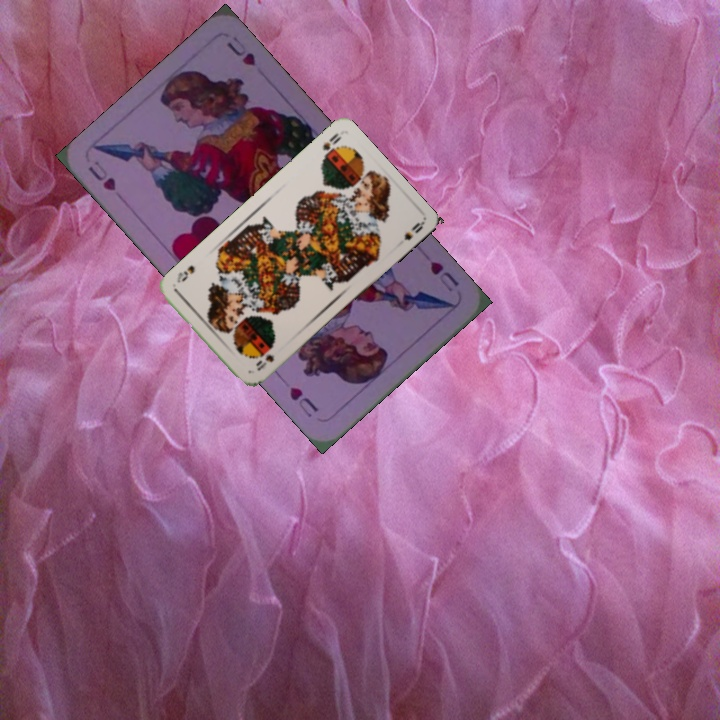HU: (426, 257, 462, 295), (84, 156, 119, 194)
SO: (318, 129, 344, 153), (251, 350, 277, 373)
